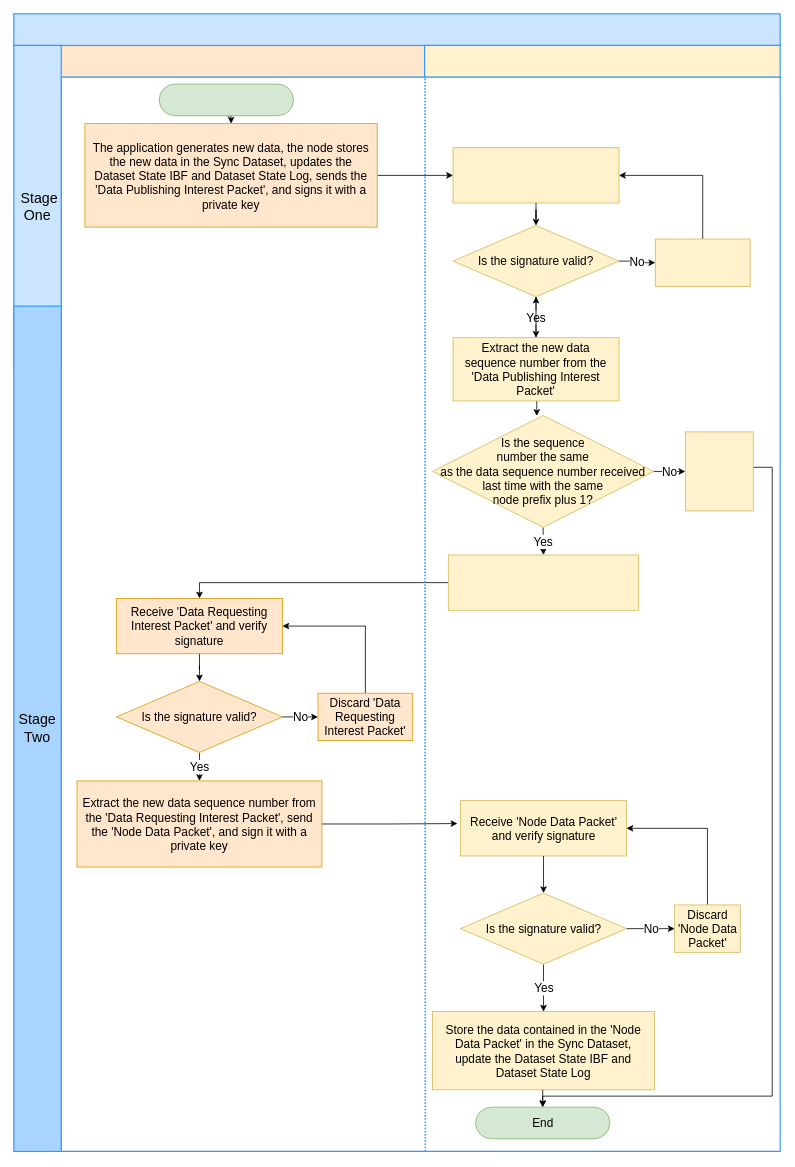
Image size: 795x1167. Some labels were removed from this diagram. The centre of each missing label's shape, as x and y in pixels:
Data Consumer: point 602,60
Data Producer: point 238,60
Discard 'Data Publishing Interest Packet': point 702,262
Entering the data recovery process: point 719,471
MINSync Synchronization Process: point 396,29
Publish the 'Data Requesting Interest Packet' and sign it with a private key: point 543,582
Receive 'Data Publishing Interest Packet' and verify signature: point 535,175
Start: point 225,99
